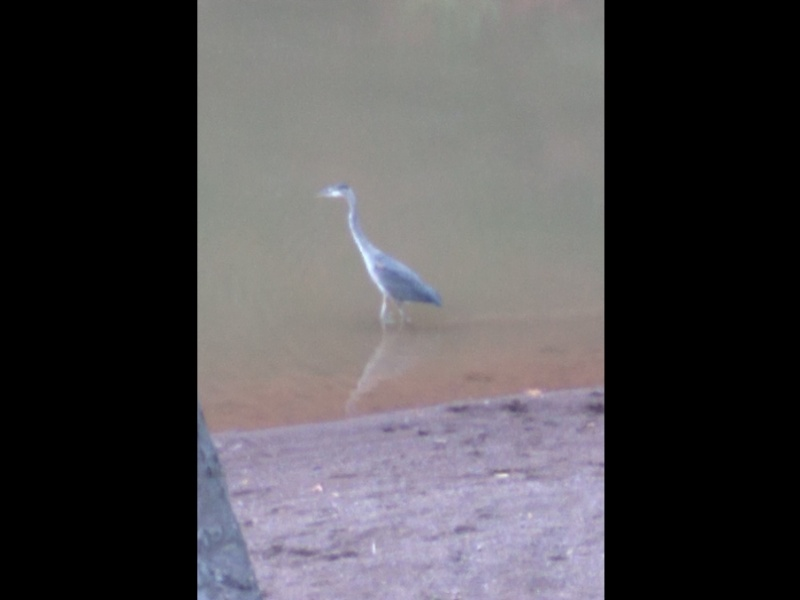heron: (313, 180, 443, 329)
